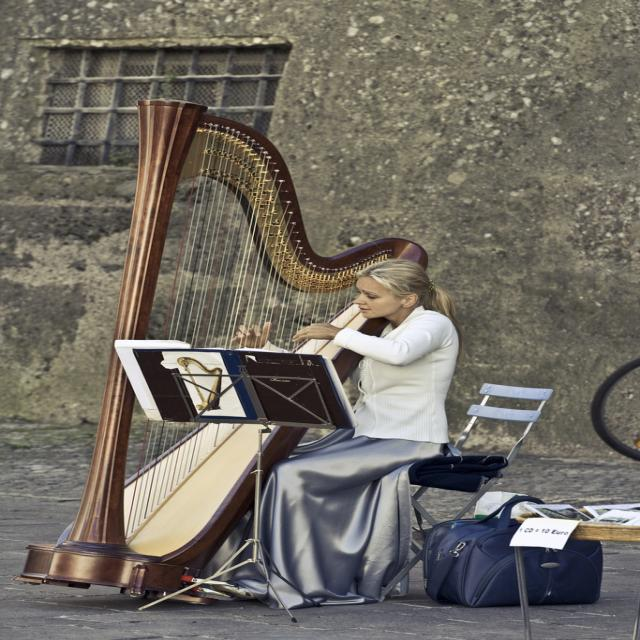harp: (21, 97, 430, 592)
